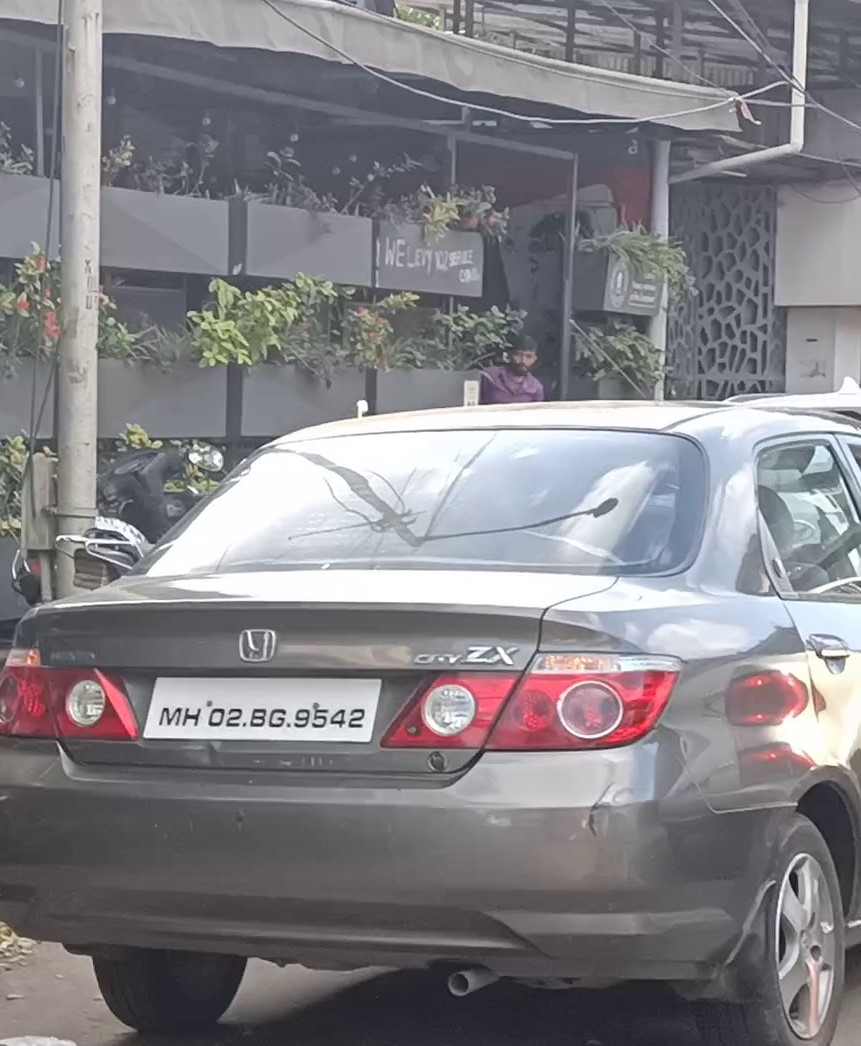MH02BG9542: (141, 678, 383, 742)
